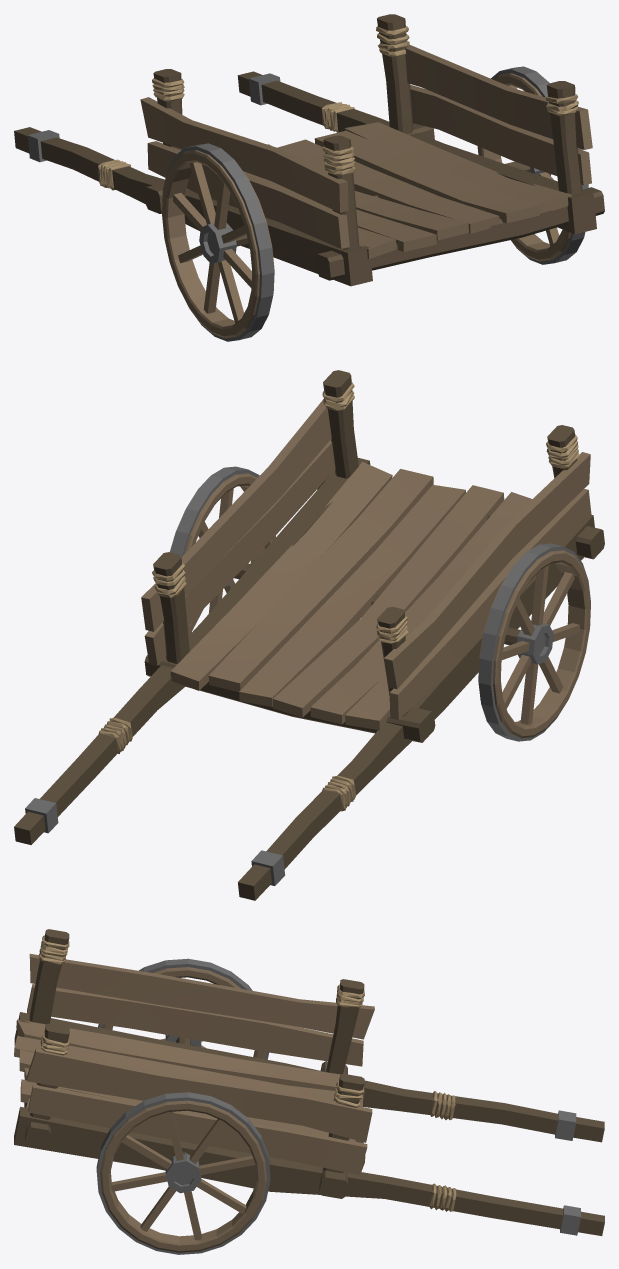
The model's file is cart_d.FBX.
The picture shows the model from 3 angles, top to bottom: view 1: azimuth 30°, elevation 25°; view 2: azimuth 150°, elevation 25°; view 3: azimuth 270°, elevation 25°; orthographic projection. The views are drawn at different scales.
Visible parts, largest first — view 1: cart_d; view 2: cart_d; view 3: cart_d.
Part boxes in pixels (bbox=[...]): cart_d: bbox=[14, 14, 604, 341]; cart_d: bbox=[14, 370, 604, 900]; cart_d: bbox=[14, 929, 604, 1254].
Size of the model in its own units: 1.54 by 1.05 by 2.72.
